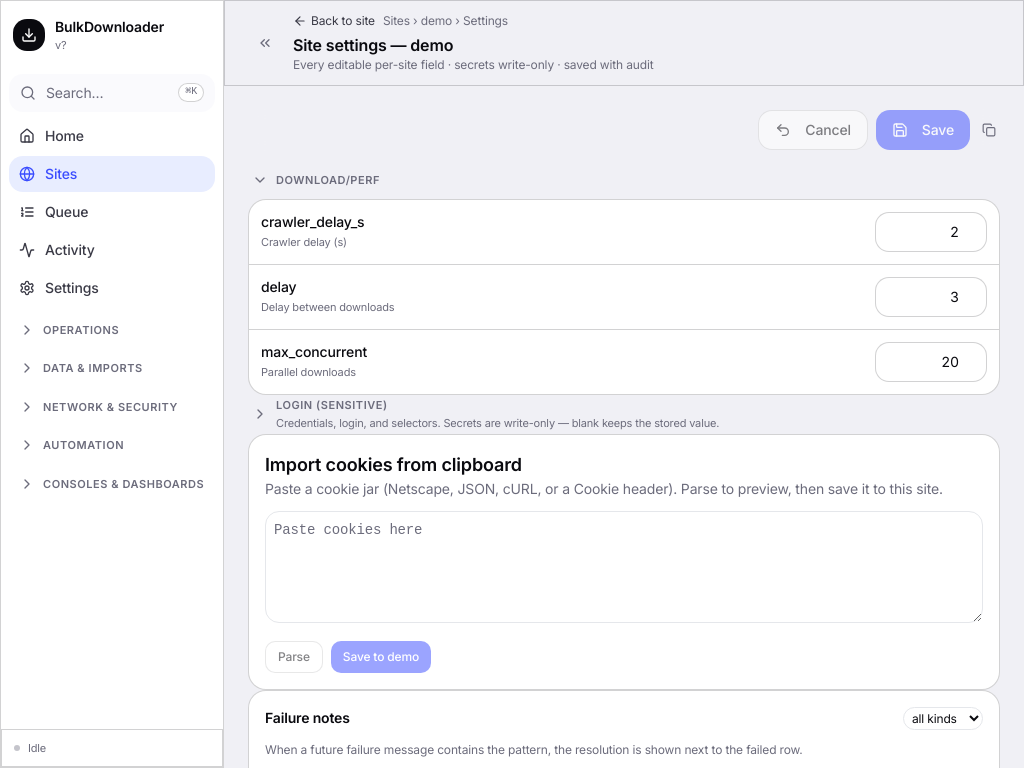
Scenario: SiteSettings keeps edits typed during a save (dsf F3) › control: with no edit during the save the draft clears
Replace the text in the number field showing "3" in the row of "Delay between downloads" with "5": (931, 296) 875,276 -> 987,316
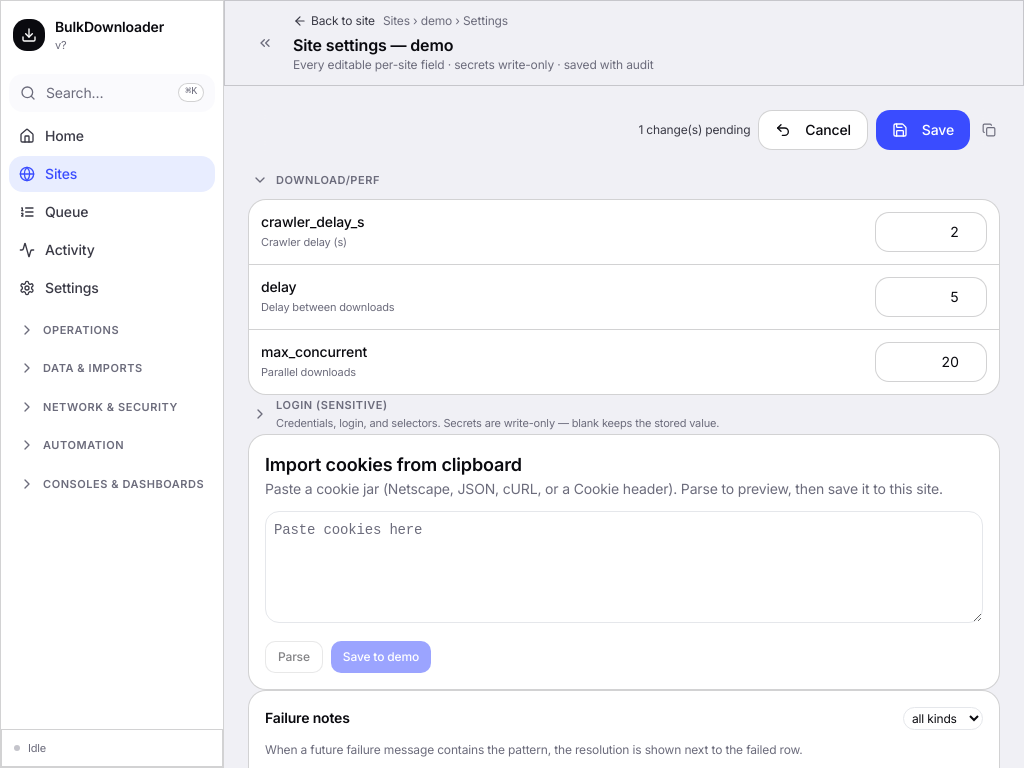
Click the button "Save": (923, 130) 876,110 -> 970,150
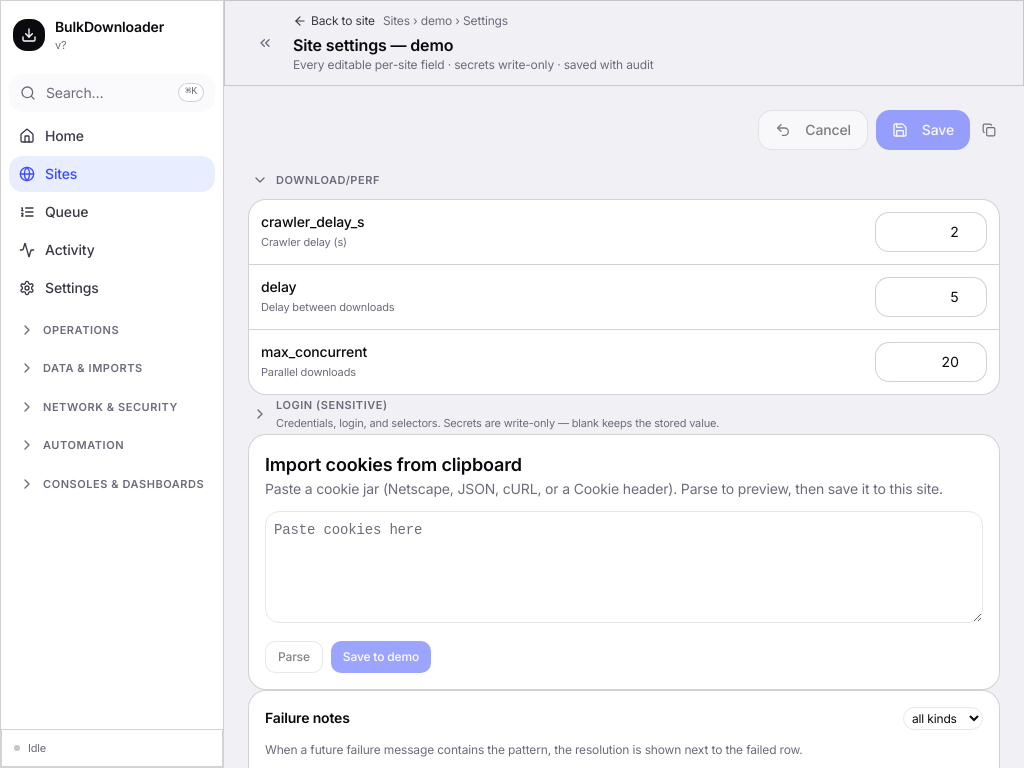
Expected: the button "Cancel" is disabled, 758,110 -> 868,150
Expected: the text "change(s) pending" is gone
